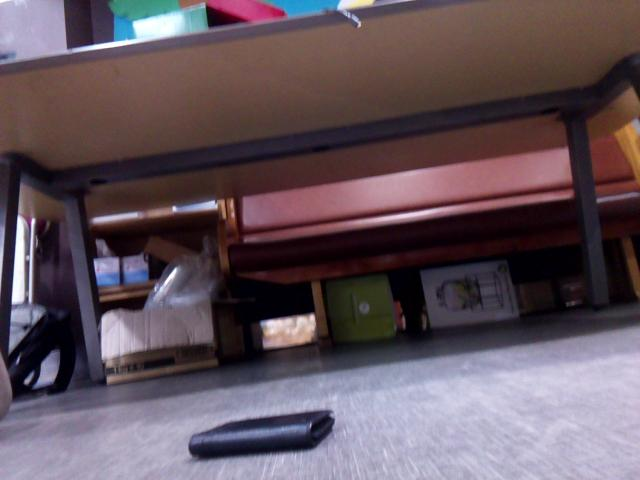wallet: (176, 401, 341, 461)
